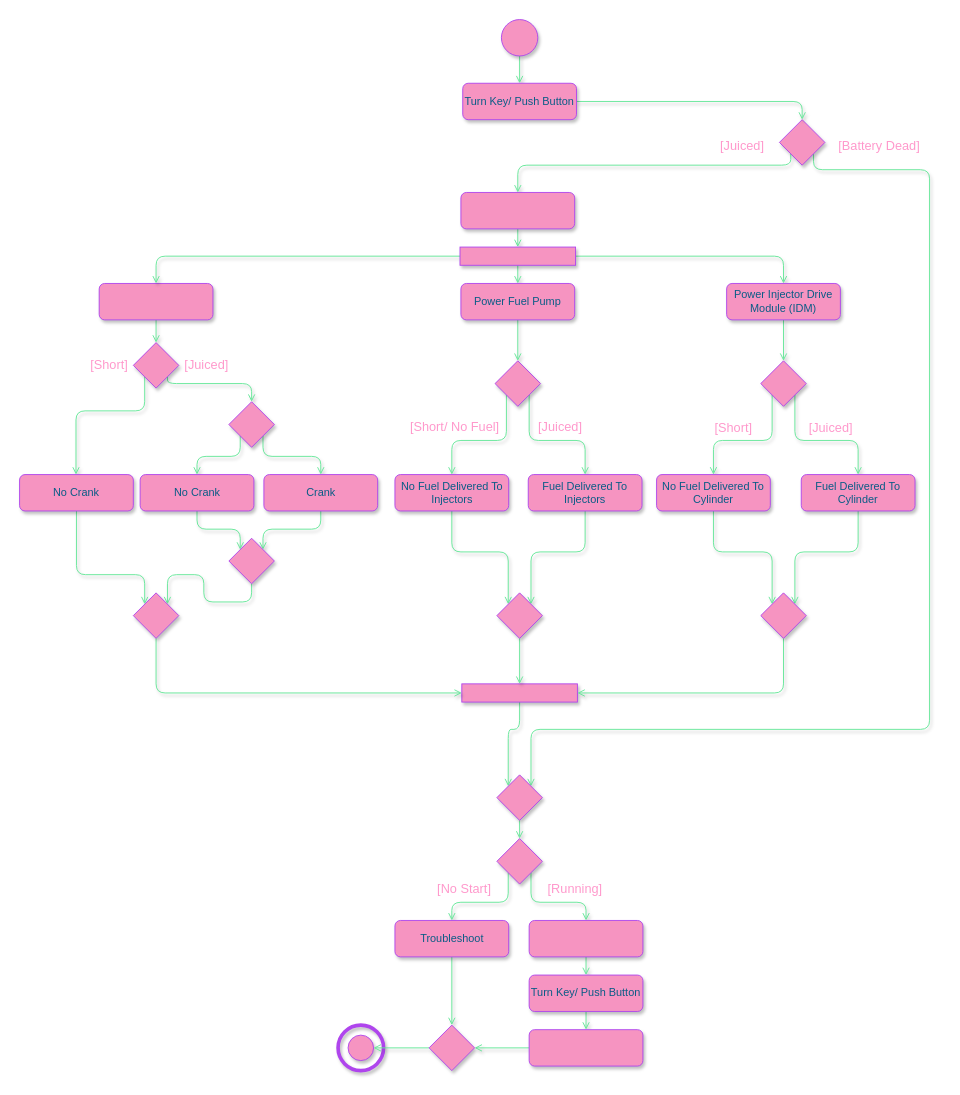
Some shapes in this 960 by 1095 pixel diagram are drawn without their labels. Here are the shapes that lost their labels. From the top down, the centre of each, then its label:
pixel 518 211: ECU To Start Car
pixel 156 302: Power Starter
pixel 252 425: [Solenoid Out] [Juiced]
pixel 586 939: Drive
pixel 586 1048: Shut Down Vehicle
